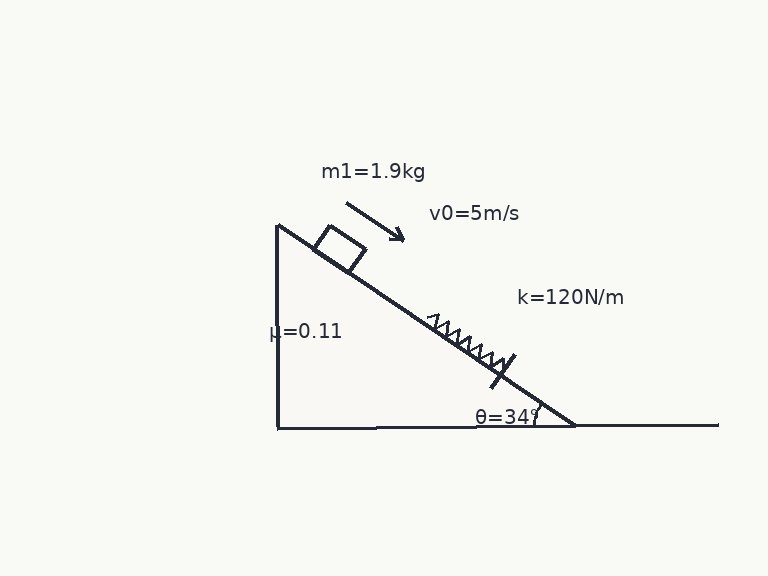block: (311, 223, 367, 275)
ramp: (274, 223, 576, 428)
spring: (425, 312, 507, 370)
